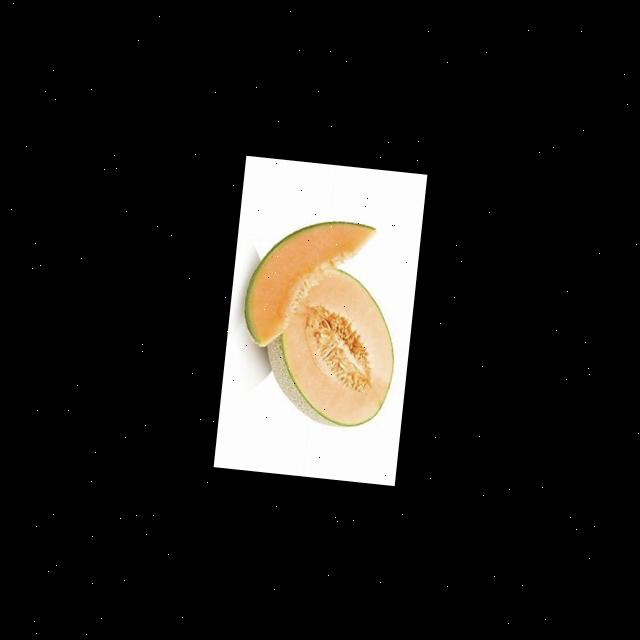Hami Melon: (262, 269, 402, 432), (239, 211, 377, 357)
